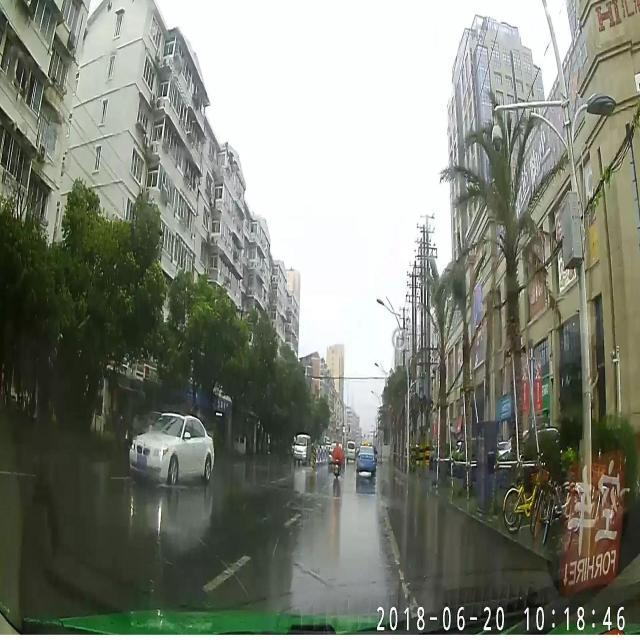car: (128, 412, 214, 488), (357, 444, 377, 478), (293, 432, 312, 466), (347, 440, 355, 462)
